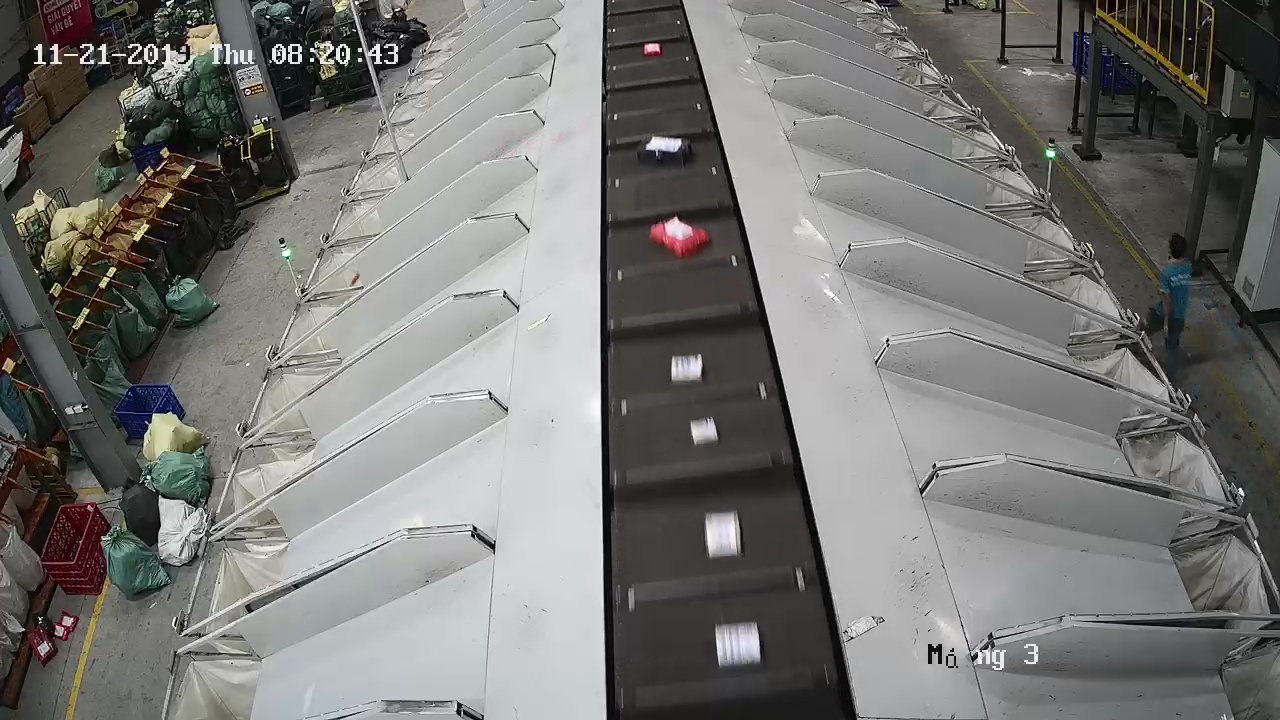parcel: (701, 509, 744, 562), (688, 414, 722, 450)
